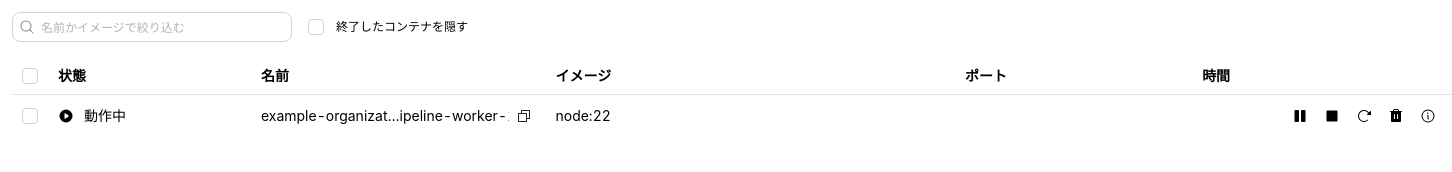
ContainersView の一覧のコピー › 名前のコピーのボタンを押すと、列に収まらない長さの名前でも、名前の全体をクリップボードに書き込み、「コピーしました」を出す
Click the button named "コンテナ example-organization-production-pipeline-worker-1 の名前をコ".
click(524, 116)  # box [514, 105, 536, 127]
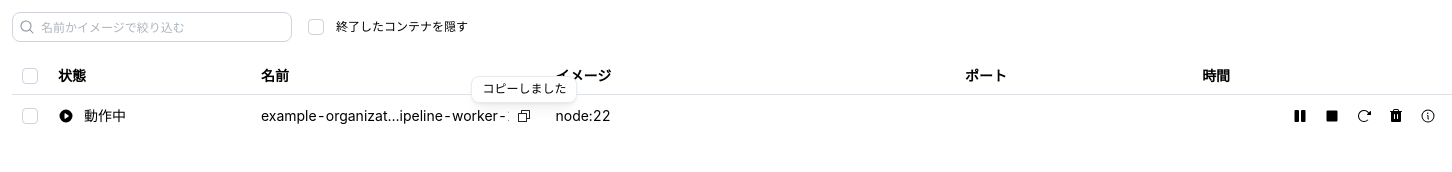
Expected: the message reads "コピーしました", [482, 81, 566, 96]
